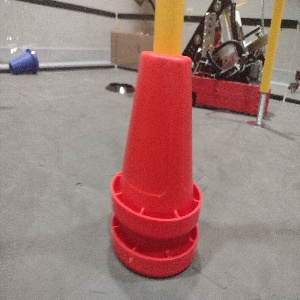Blue_1: (7, 45, 39, 76)
Red_2: (109, 48, 201, 279)
